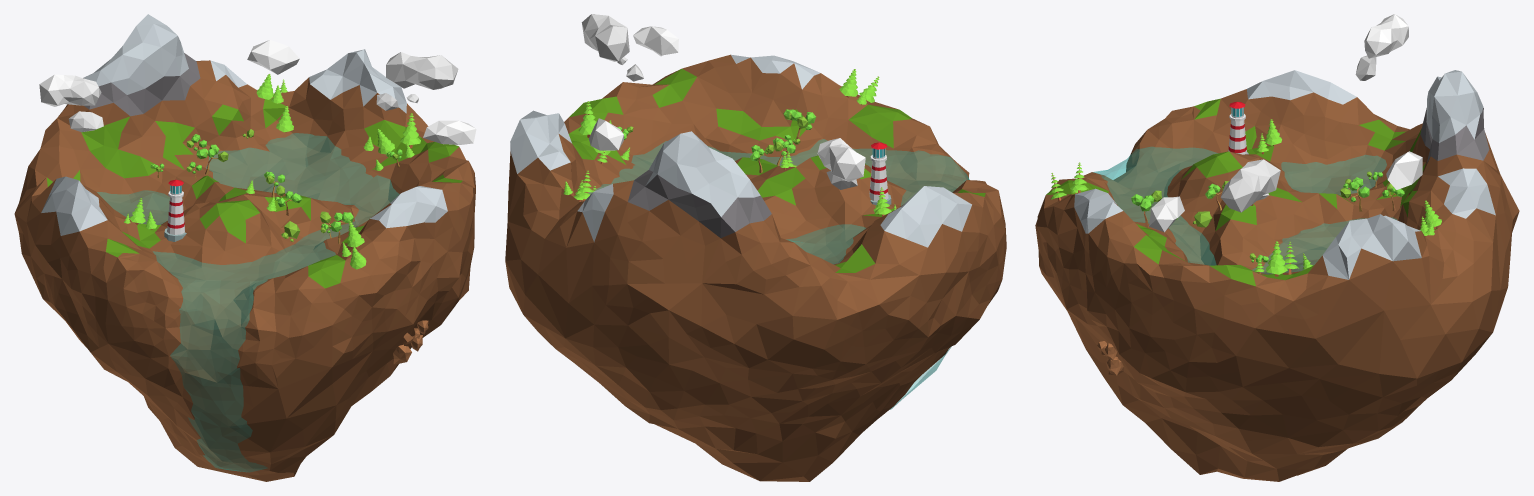
Rendered from island.glb.
3 renders of one model, left to right at view 1: azimuth 30°, elevation 25°; view 2: azimuth 150°, elevation 25°; view 3: azimuth 270°, elevation 25°, orthographic. The views are drawn at different scales.
Visible parts, largest first — view 1: Icosphere_2, Plane_3, Icosphere.003_26, Icosphere.001_24, Icosphere.004_27, Icosphere.005_28, Cylinder.001_6, Icosphere.002_25; view 2: Icosphere_2, Plane_3, Icosphere.003_26, Icosphere.001_24, Cylinder.001_6, Icosphere.005_28, Icosphere.004_27; view 3: Icosphere_2, Plane_3, Icosphere.003_26, Icosphere.001_24, Icosphere.004_27, Icosphere.005_28, Cylinder.001_6.
Boxes of the visible parts, x1,y1,x2,y2 form: Icosphere_2: [14, 14, 475, 481]; Plane_3: [97, 133, 399, 472]; Icosphere.003_26: [386, 52, 458, 89]; Icosphere.001_24: [39, 74, 101, 106]; Icosphere.004_27: [247, 40, 299, 74]; Icosphere.005_28: [423, 120, 476, 144]; Cylinder.001_6: [164, 179, 186, 241]; Icosphere.002_25: [68, 111, 103, 132]; Icosphere_2: [505, 54, 1006, 481]; Plane_3: [589, 139, 969, 409]; Icosphere.003_26: [581, 14, 629, 61]; Icosphere.001_24: [817, 138, 865, 181]; Cylinder.001_6: [869, 142, 891, 205]; Icosphere.005_28: [633, 26, 678, 56]; Icosphere.004_27: [589, 118, 623, 150]; Icosphere_2: [1035, 70, 1519, 481]; Plane_3: [1093, 147, 1396, 274]; Icosphere.003_26: [1220, 159, 1280, 212]; Icosphere.001_24: [1364, 14, 1408, 58]; Icosphere.004_27: [1386, 151, 1422, 189]; Icosphere.005_28: [1149, 196, 1184, 232]; Cylinder.001_6: [1228, 101, 1248, 154].
Size of the model in its own units: 47.08 by 43.65 by 47.84.
